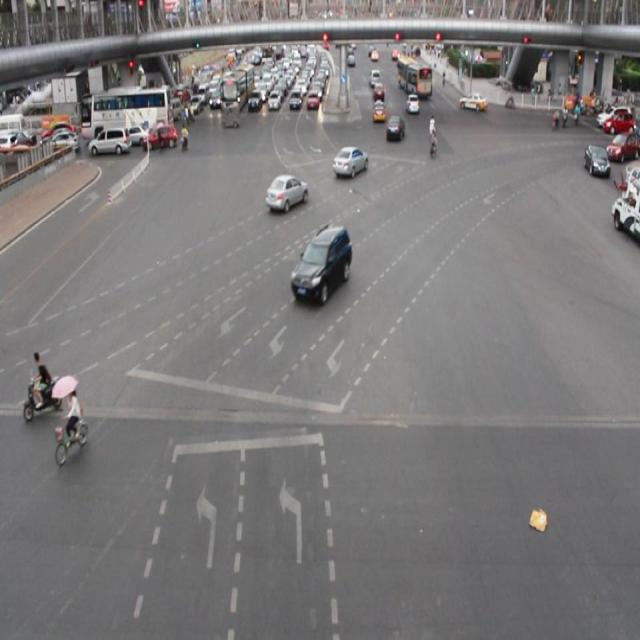car: (289, 224, 352, 306), (264, 172, 309, 214), (332, 143, 369, 183)
